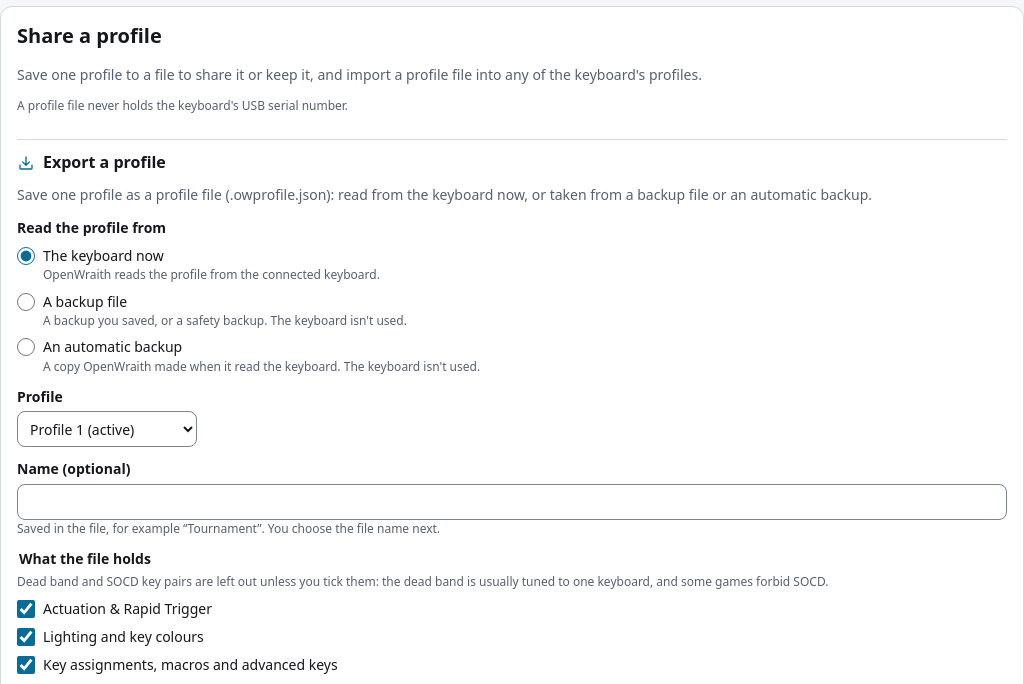
Test: export › exports another profile of a backup file without switching profiles
(page scrolled)
Click the radio button labelled "A backup file" at coordinates (26, 302), box left=17, top=293, right=35, bottom=311
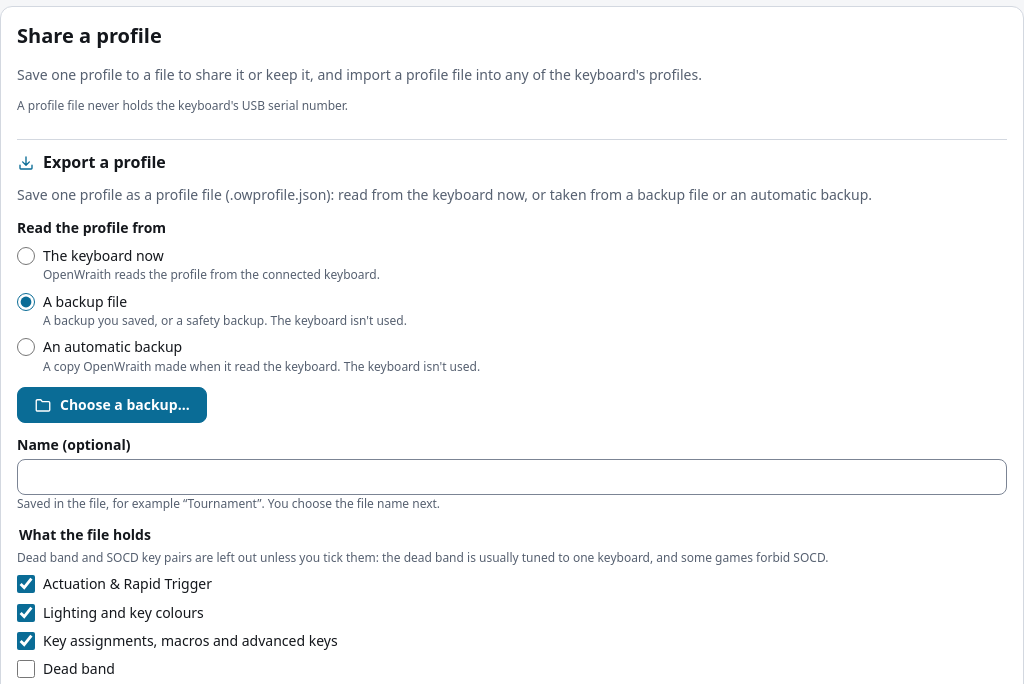
Click the button "Choose a backup…" at coordinates (112, 405), box left=17, top=387, right=207, bottom=423
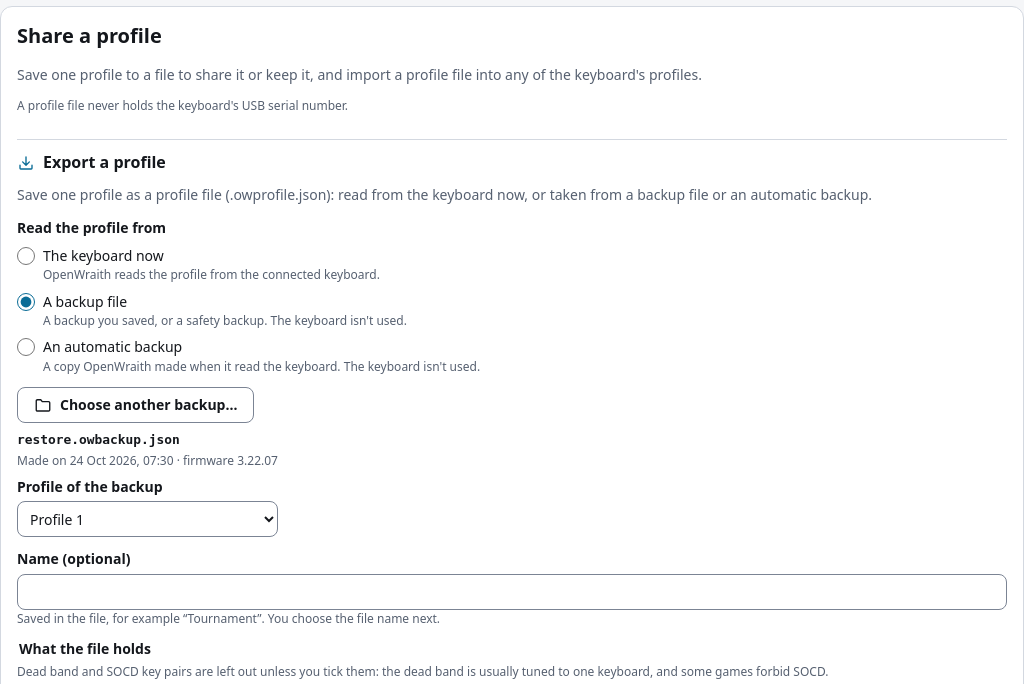
Result: the text "restore.owbackup.json" is shown at left=17, top=432, right=180, bottom=447
Select "Profile 3" in the dropdown labelled "Profile of the backup" at coordinates (148, 519), box left=17, top=501, right=278, bottom=537
(page scrolled)
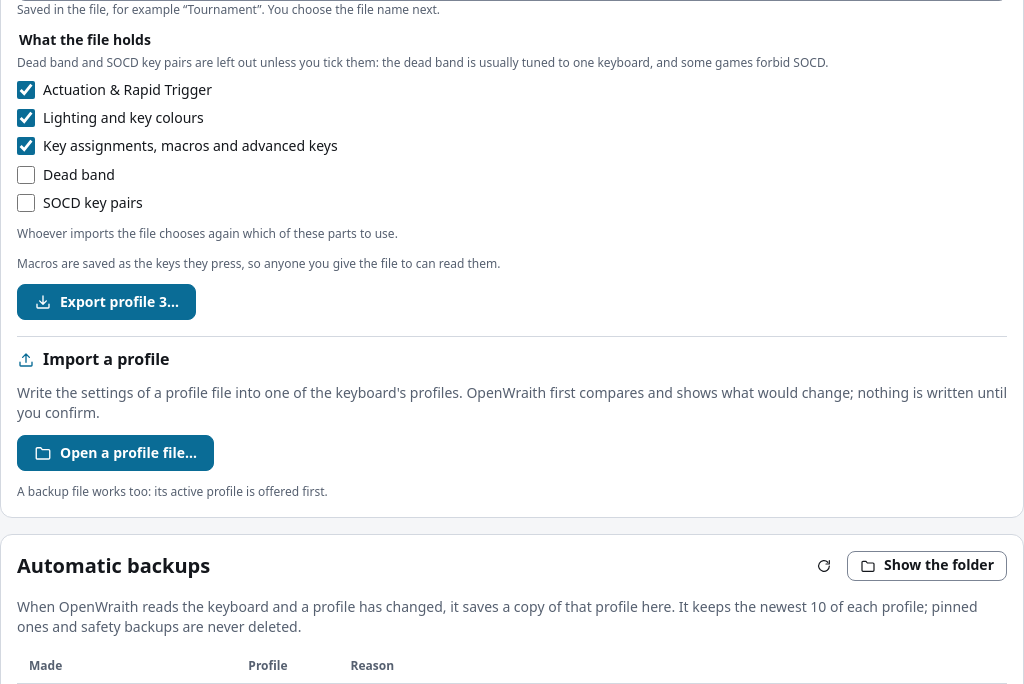
Click the button "Export profile 3…" at coordinates (106, 302), box left=17, top=284, right=196, bottom=320
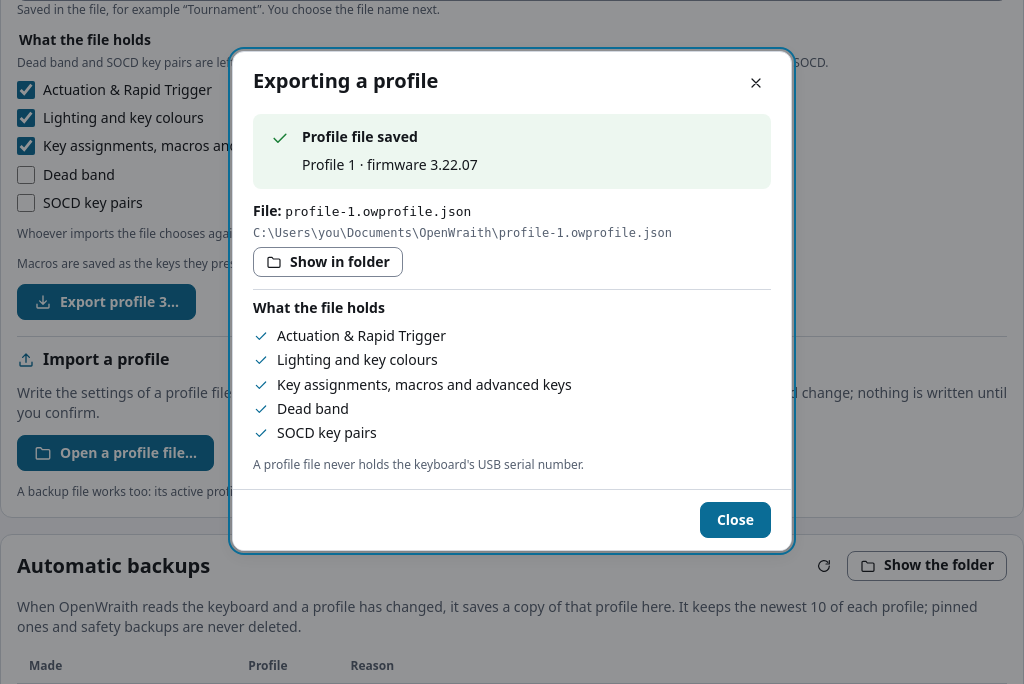
Result: the text "Profile file saved" is shown at left=302, top=127, right=418, bottom=146
